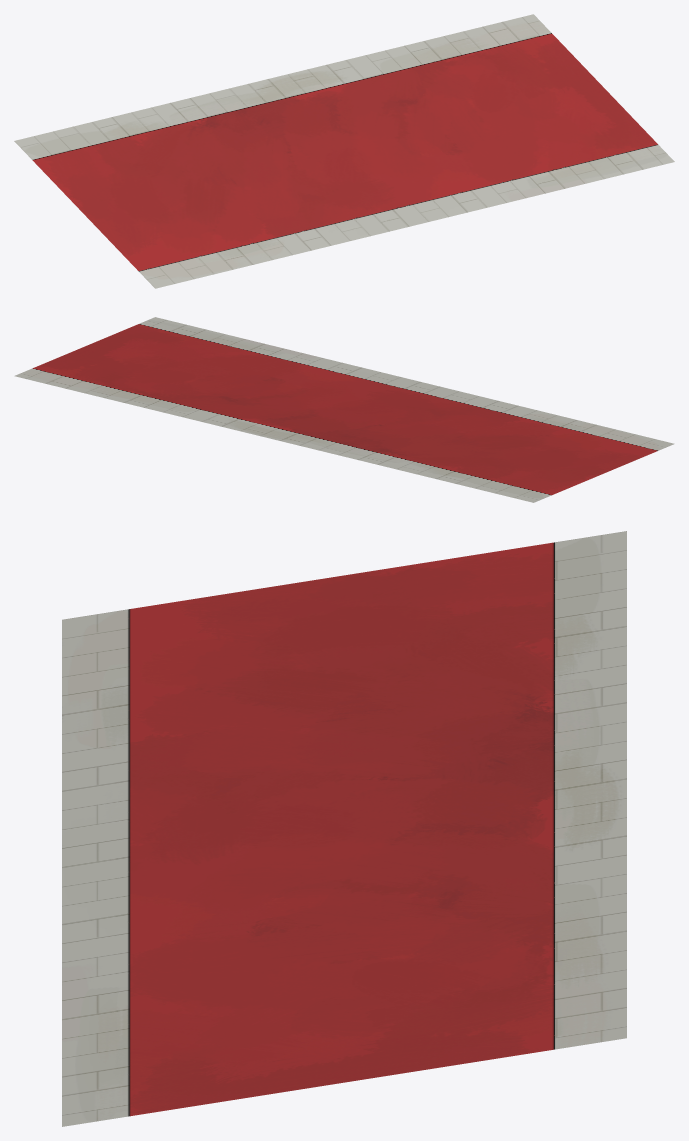
File: BG1_castle1_1.fbx
3 views of the same model, one above another, from view 1: azimuth 30°, elevation 25°; view 2: azimuth 150°, elevation 25°; view 3: azimuth 270°, elevation 25° (orthographic). The views are drawn at different scales.
Visible parts, largest first — view 1: pPlane1; view 2: pPlane1; view 3: pPlane1.
Boxes of the visible parts, x1,y1,x2,y2 form: pPlane1: (14,14,674,288); pPlane1: (14,317,674,502); pPlane1: (62,531,626,1126).
Bounding box in the file's own units: 25 × 2.04 × 11.77.
